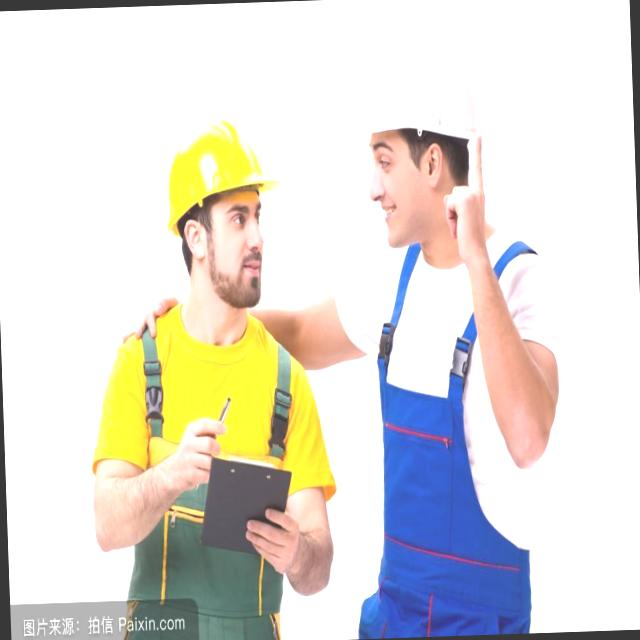helmet: (350, 31, 485, 150), (157, 114, 287, 230)
no-vest: (116, 297, 314, 640), (370, 252, 552, 588)
